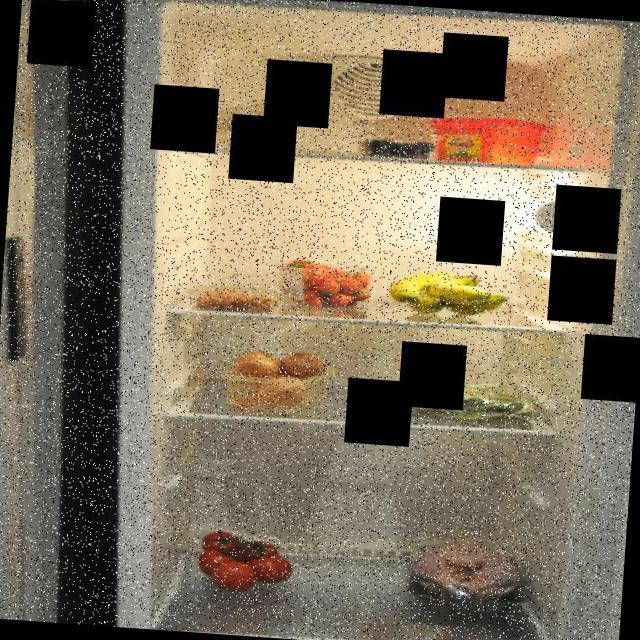Carne pollo: (398, 533, 532, 618)
Cebolla: (226, 345, 328, 412)
Champiñones: (208, 88, 310, 163)
Gambas/Langostinos: (193, 282, 276, 316)
Mantequilla: (424, 110, 550, 168)
Plátano: (382, 266, 514, 322)
Tomate: (192, 524, 299, 596)
